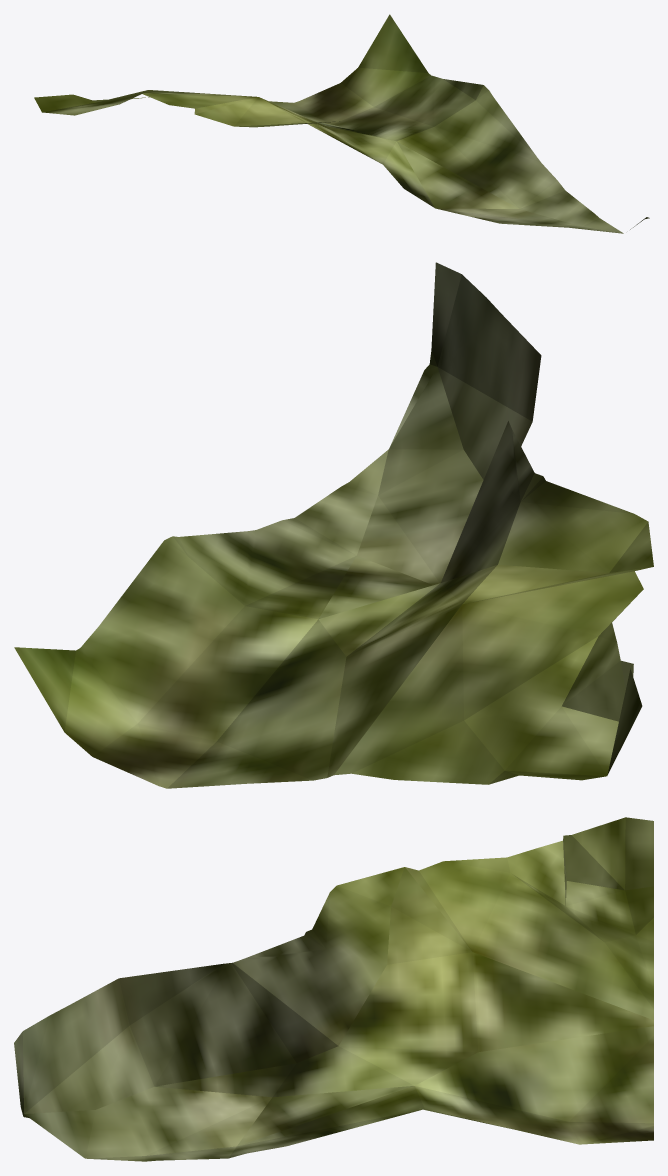
3 renders of one model, top to bottom at view 1: azimuth 30°, elevation 25°; view 2: azimuth 150°, elevation 25°; view 3: azimuth 270°, elevation 25°, orthographic. The views are drawn at different scales.
Size of the model in its own units: 0.6926 by 0.1959 by 0.83.
1 material, 1 textured.
